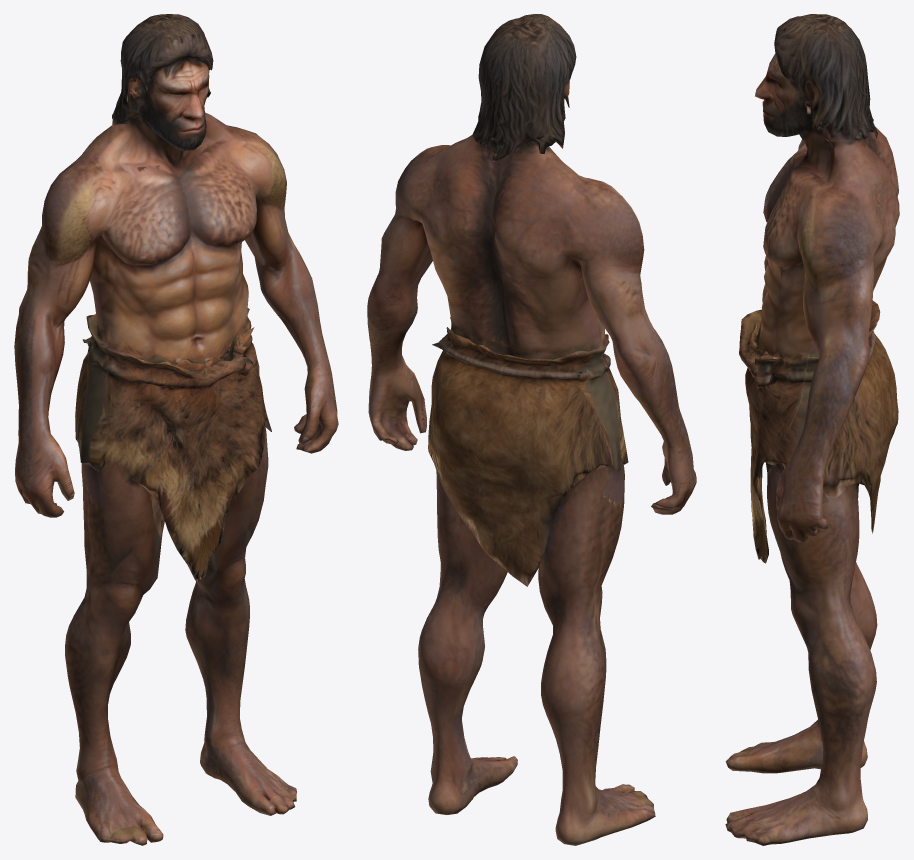
Rendered from cavemen_get3dmodels.glb.
The picture shows the model from 3 angles, left to right: view 1: azimuth 30°, elevation 25°; view 2: azimuth 150°, elevation 25°; view 3: azimuth 270°, elevation 25°; orthographic projection.
Size of the model in its own units: 0.8377 by 2 by 0.4042.
1 material, 1 textured.
